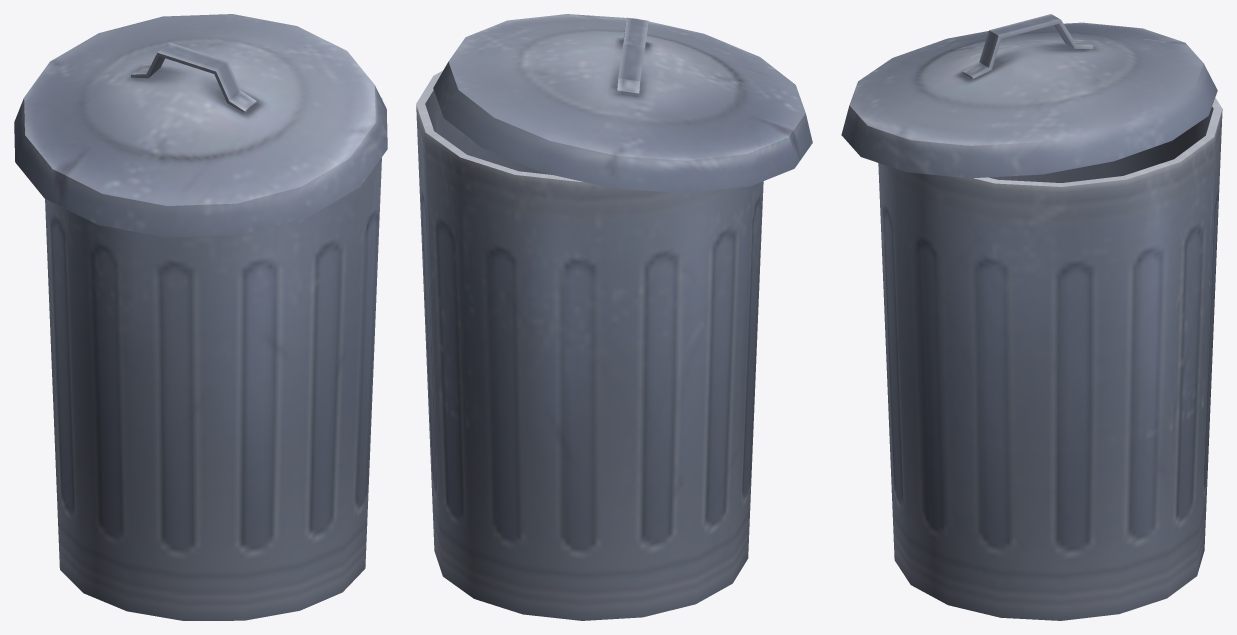
The model's file is Container4.fbx.
3 renders of one model, left to right at view 1: azimuth 30°, elevation 25°; view 2: azimuth 150°, elevation 25°; view 3: azimuth 270°, elevation 25°, orthographic.
Visible parts, largest first — view 1: bin_4_Mesh; view 2: bin_4_Mesh; view 3: bin_4_Mesh.
Part boxes in pixels (bbox=[...]): bin_4_Mesh: bbox=[14, 14, 387, 620]; bin_4_Mesh: bbox=[416, 14, 812, 620]; bin_4_Mesh: bbox=[841, 14, 1222, 620].
Size of the model in its own units: 69.54 by 103 by 68.7.
